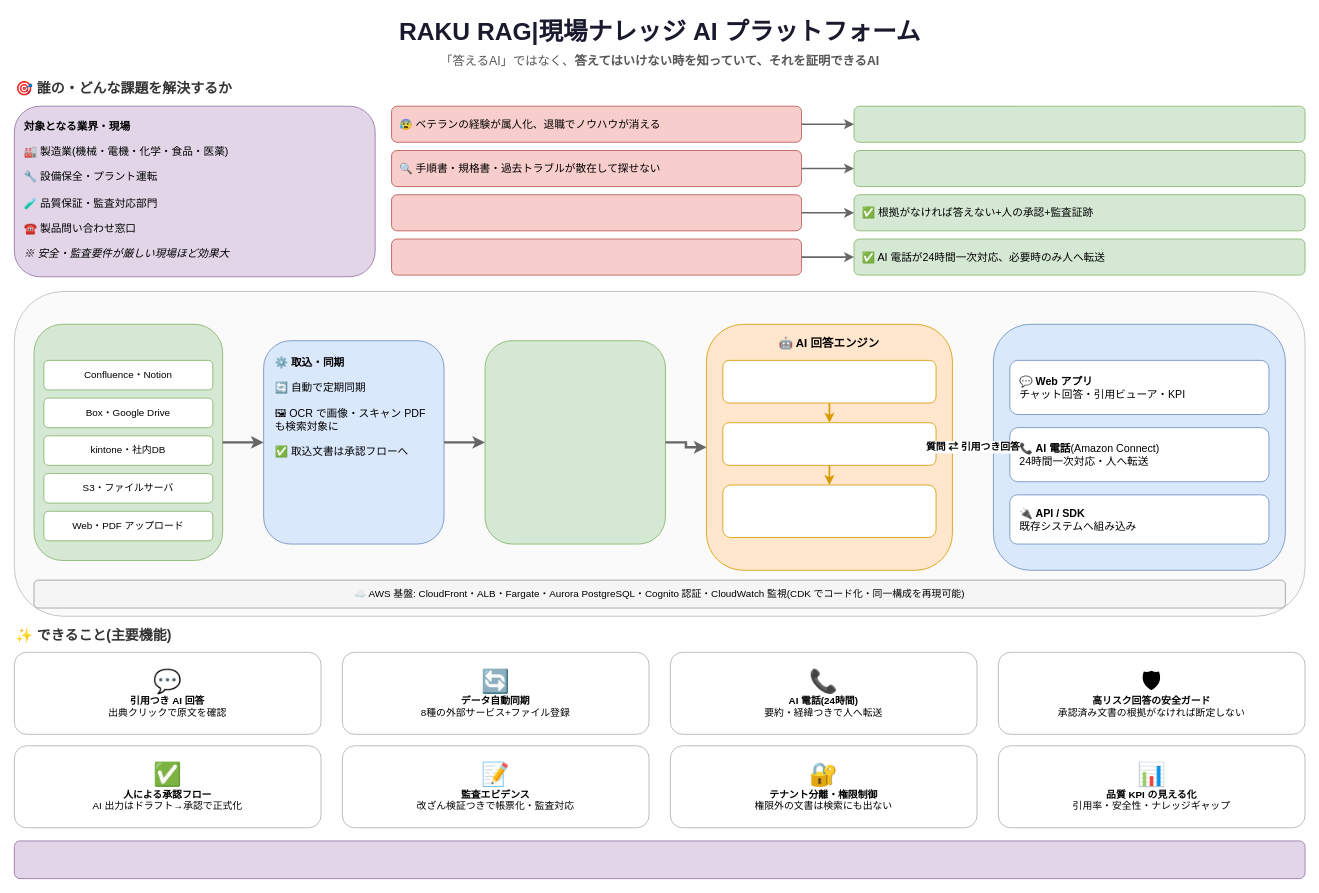
This 1319x893 diagram has some shape labels left out. The shapes that lost their labels are listed below. From the top down, each one's box as (x1, y1, x2, y2) in pixels, then its label:
(853, 105, 1305, 142): ✅ 文書を知識ベース化し、AI が現場の質問に即答・継承
(853, 150, 1305, 187): ✅ 8種のソースを自動同期、数秒で「根拠つき」回答
(391, 194, 802, 231): ⚠️ AI の誤答が事故・品質不良・監査指摘に直結する
(391, 238, 802, 275): 🌙 夜間・休日の問い合わせ対応に人が張り付く
(722, 360, 936, 403): ① 検索 (日本語最適化)
(33, 323, 223, 560): 🗂 データソース
(484, 340, 665, 544): 🔐 知識ベース 🏢 会社・部門ごとに完全分離 🙈 権限のない文書は見えない 🗑 削除した文書は復活しない
(14, 291, 1305, 616): 🗺 システム構成(AWS 上で稼働)
(722, 422, 936, 465): ② 回答生成 (AWS Bedrock / Claude)
(993, 323, 1285, 570): 👥 利用チャネル
(722, 484, 936, 538): ③ 安全チェック 根拠がなければ答えない
(14, 840, 1305, 879): 🔒 学習利用なし (お客様データで AI を学習させません) 🗑 削除文書は完全に消える 🕵 電話記録は個人情報マスキング済み
